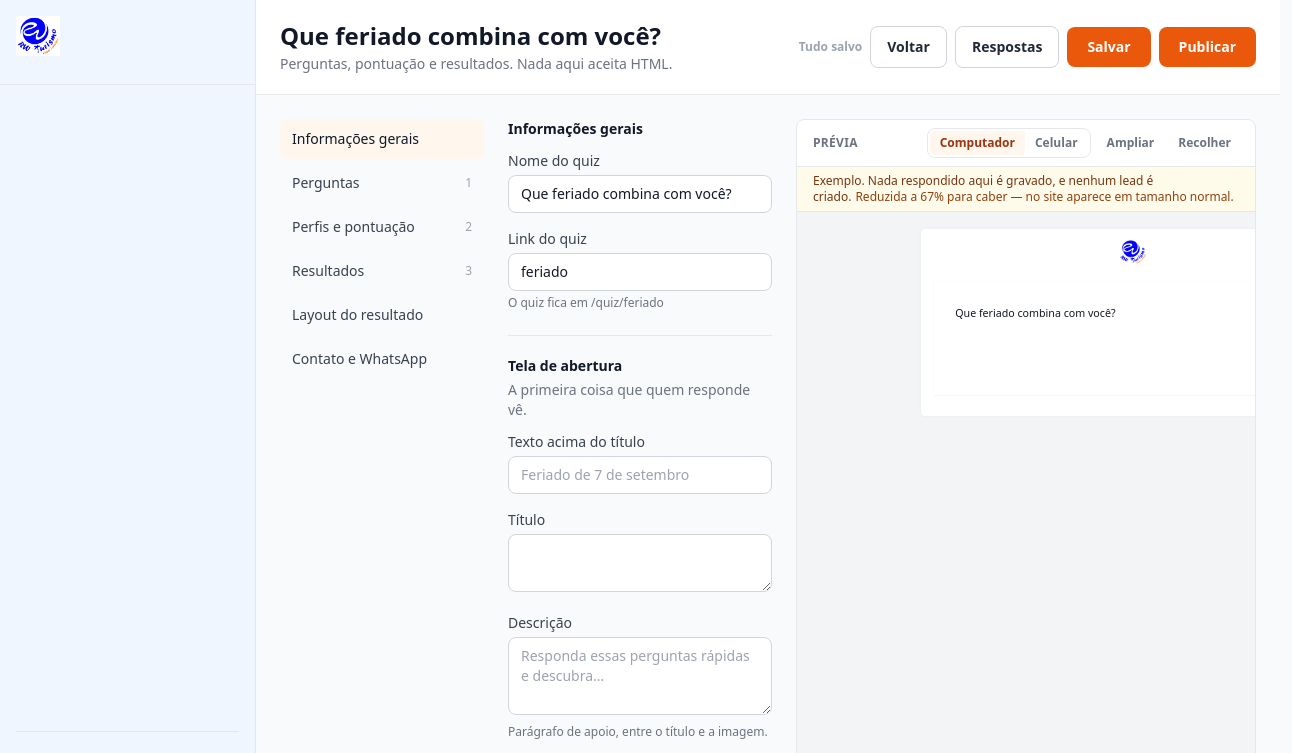
estados de salvamento › começa em "Tudo salvo" e passa a "Não salvo" ao editar
The width and height of the screenshot is (1292, 753).
Expected: the button "Informações gerais" is shown, [280,119,484,159]
Expected: the text "Tudo salvo" is shown, [799,39,862,55]
Replace the text in the field labelled "Nome do quiz" with "outro" at point(640, 194), box [508,175,772,213]
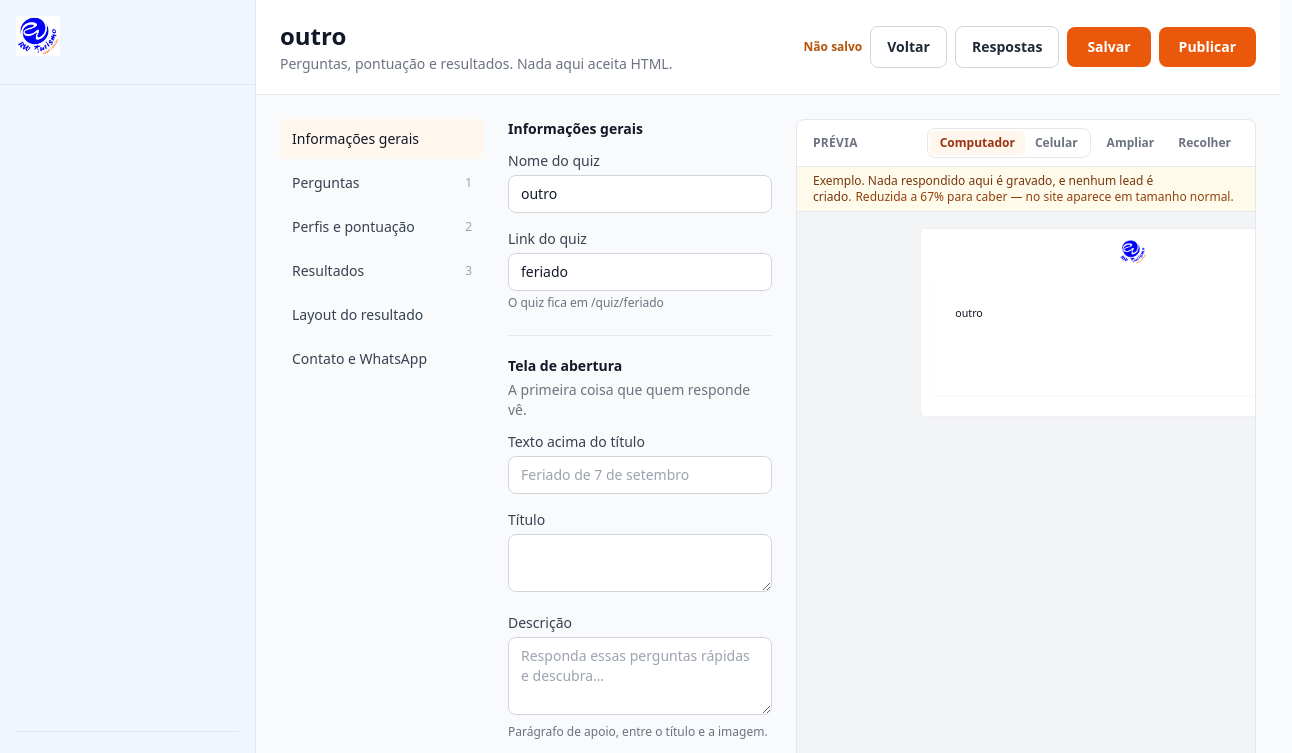
Now the text "Não salvo" is shown, box [804,39,862,55]
